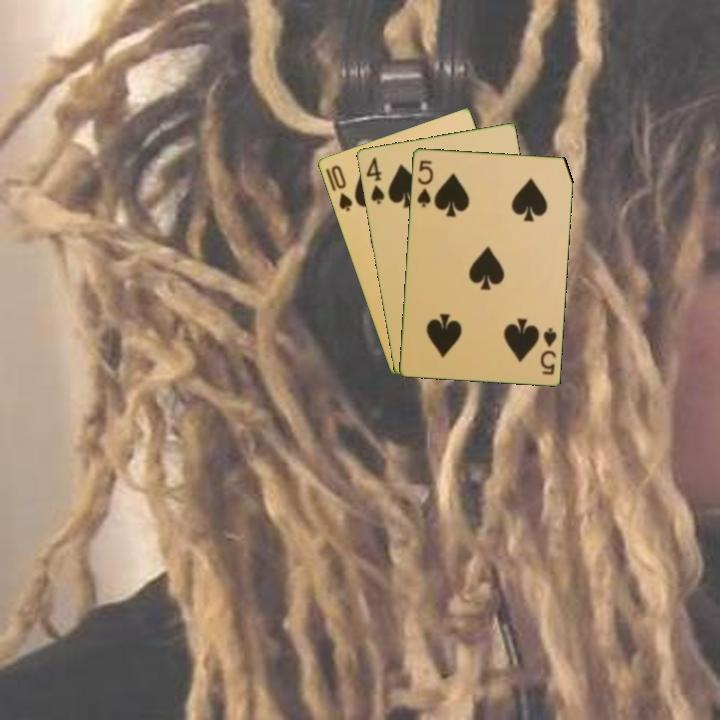10s: (327, 162, 355, 214)
4s: (362, 153, 387, 207)
5s: (413, 156, 436, 210), (536, 324, 559, 377)
